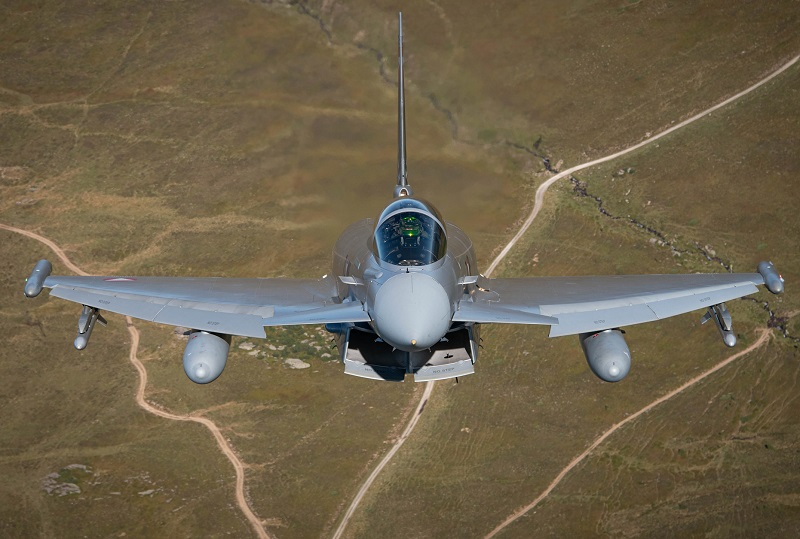Aeronef_militaire: (19, 7, 793, 409)
